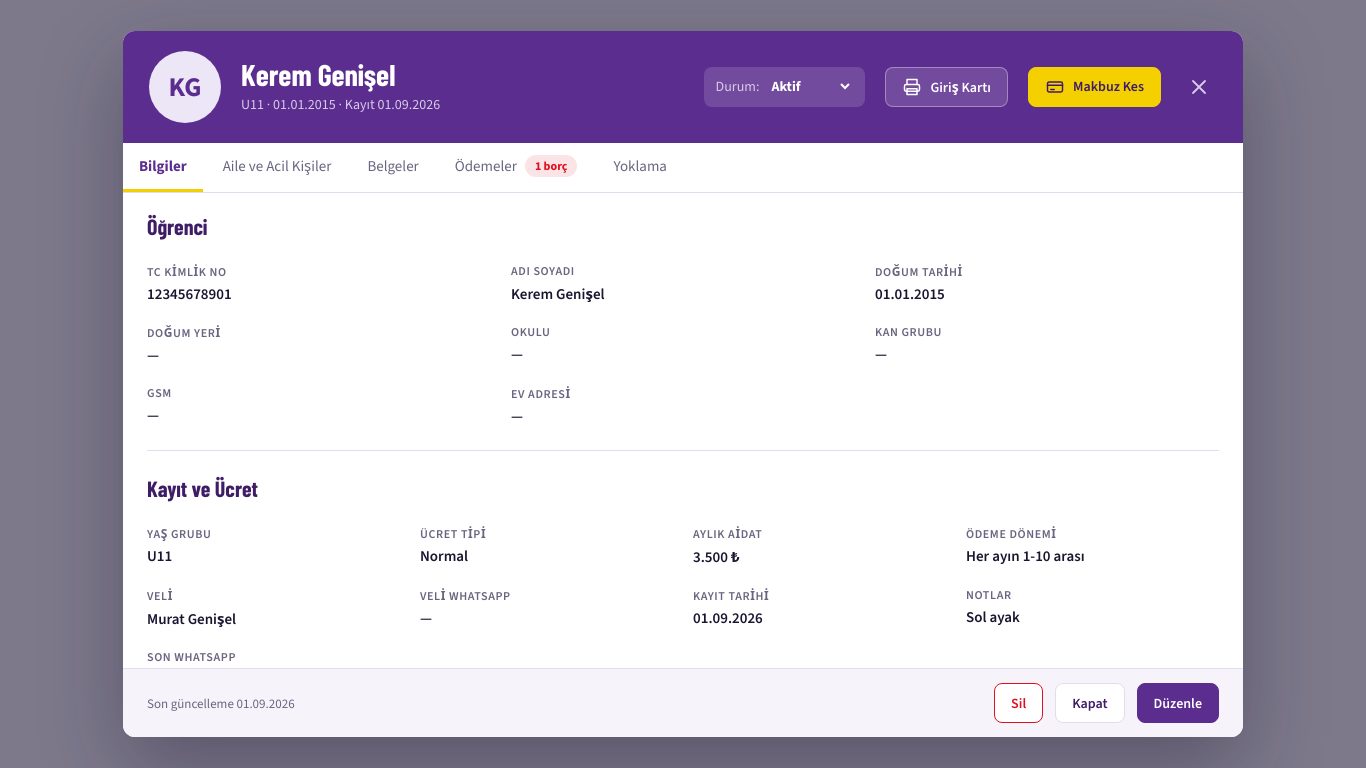
Test: Oyuncu kartı sekmeleri › Ödemeler: iptal edilen uzun dönem makbuzundan kalan ileri tarihli açık aylar listelenmez, borç rozeti saymaz (10.09.2026)
This screenshot has width=1366, height=768.
Step 1. Click the button "Ödemeler 1 borç" → (516, 167), box [439, 143, 593, 192]
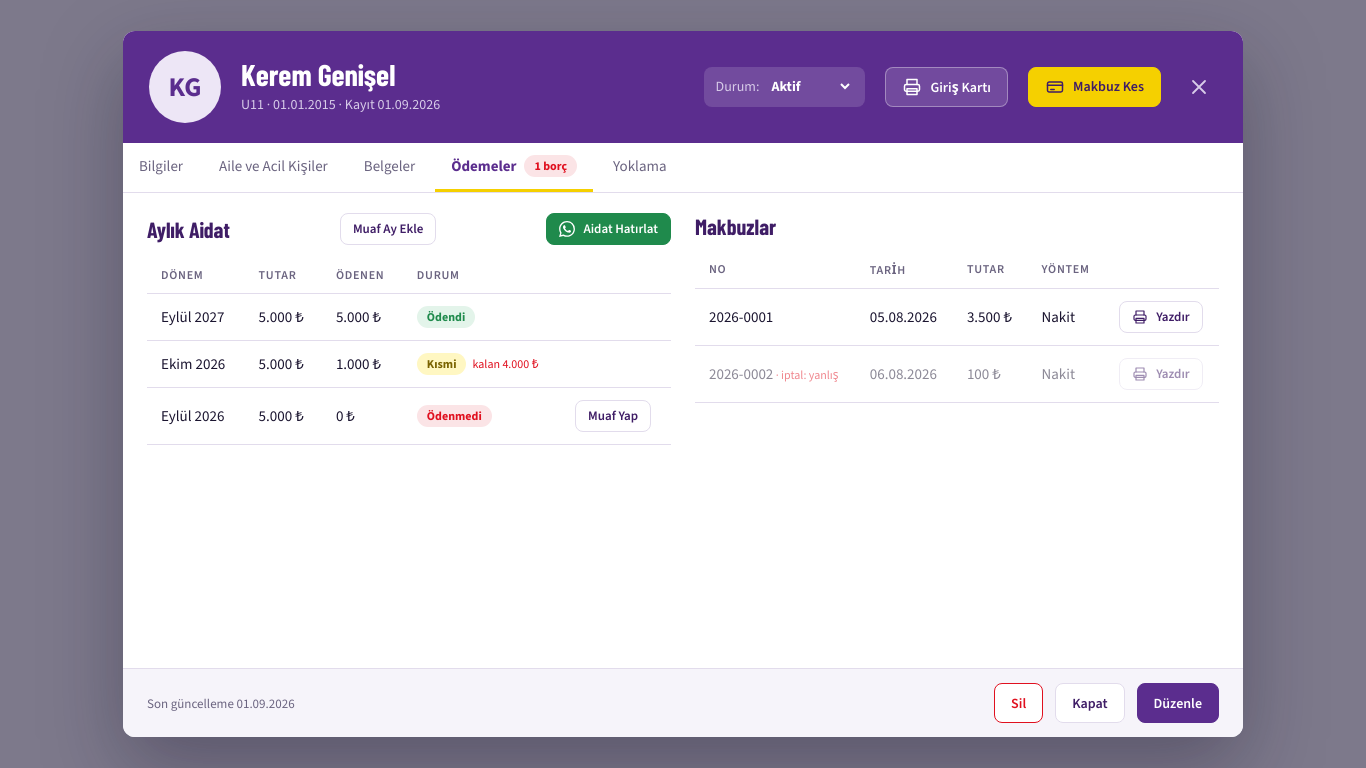
Result: the text "Eylül 2026" is shown at [147, 387, 245, 444]
Result: the text "Ekim 2026" is shown at [147, 340, 245, 387]
Result: the text "Eylül 2027" is shown at [147, 293, 245, 340]
